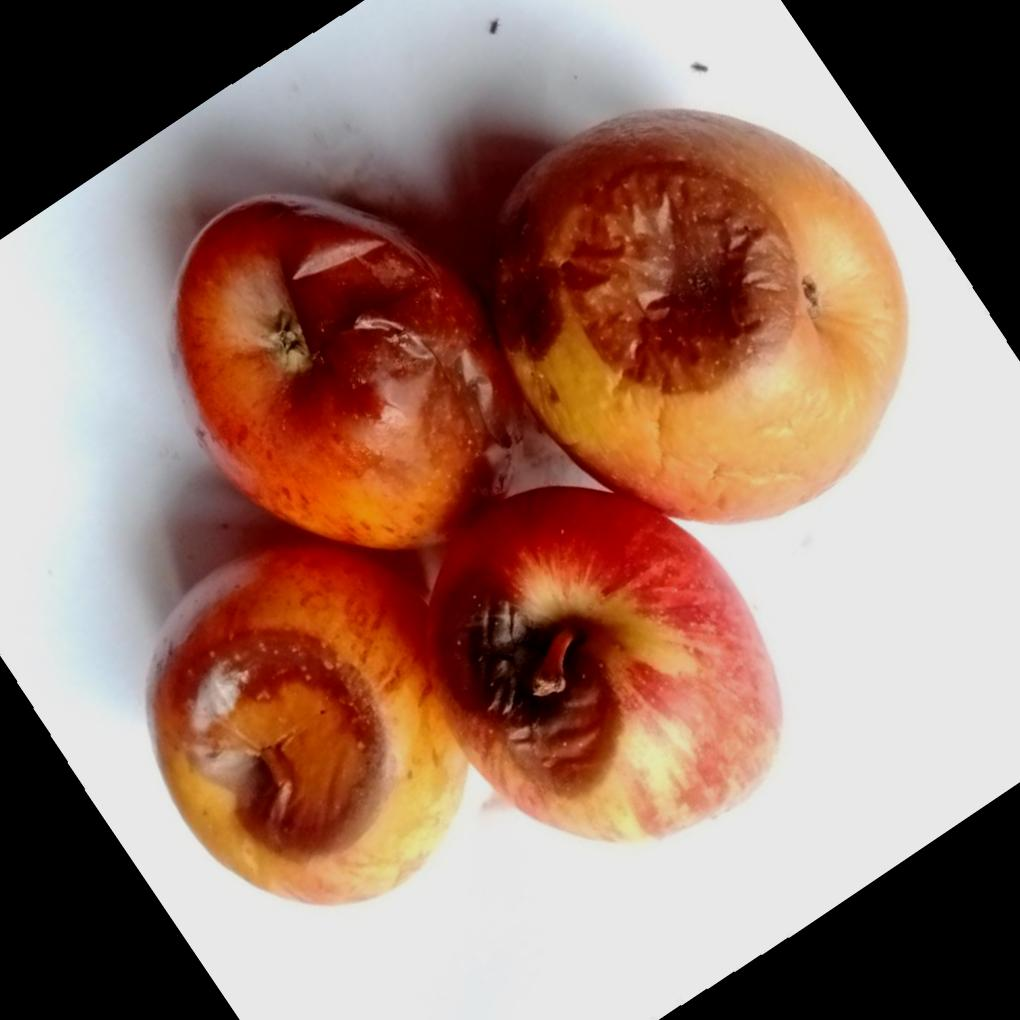FreshOrange: (144, 108, 906, 911)
